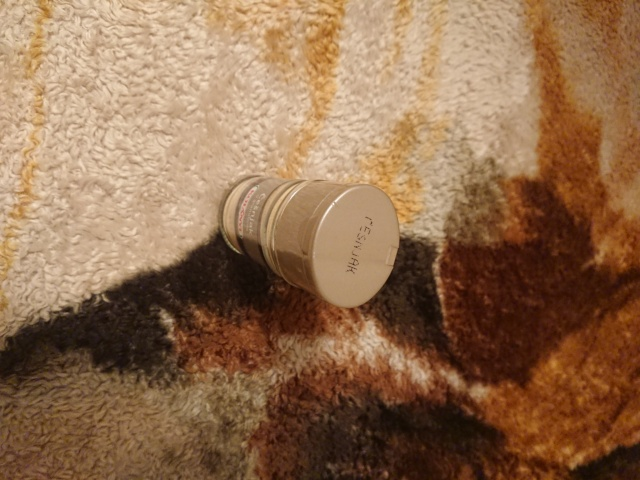Kotanyi Garlic Granules 70g: (216, 172, 402, 310)
